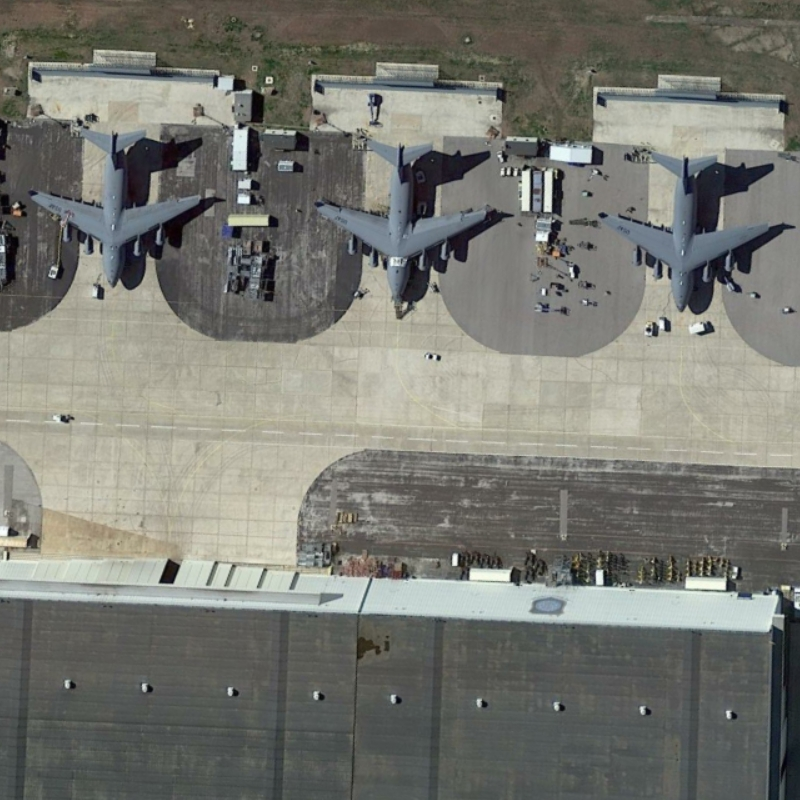A3: (305, 127, 499, 326), (19, 122, 206, 295), (599, 139, 775, 321)
